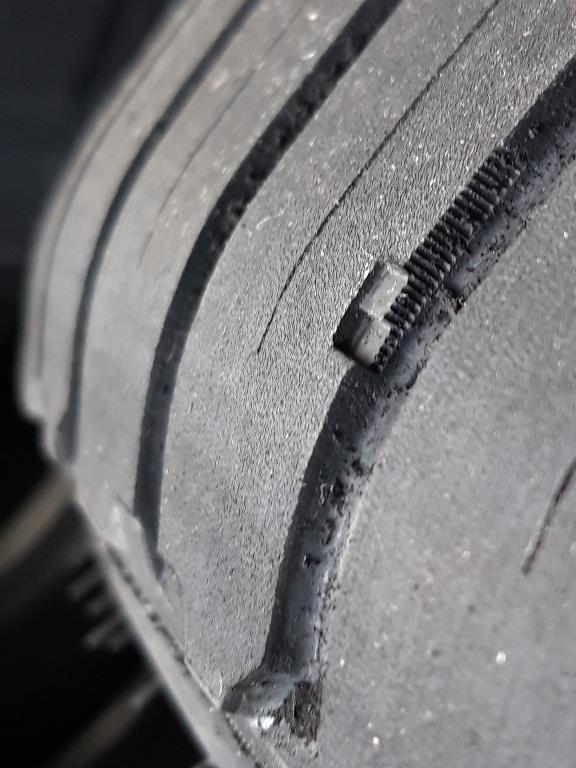temoin:25: (326, 249, 447, 385)
